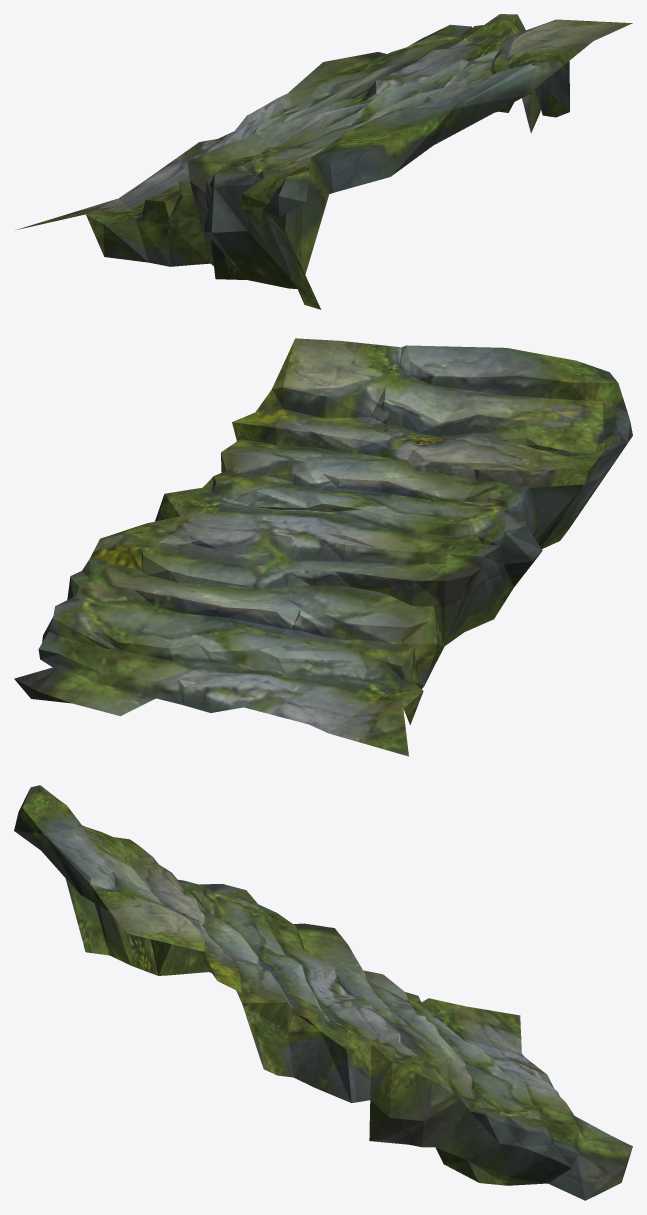
The model's file is bigmap_02_louti_02.FBX.
3 views of the same model, one above another, from view 1: azimuth 30°, elevation 25°; view 2: azimuth 150°, elevation 25°; view 3: azimuth 270°, elevation 25° (orthographic). The views are drawn at different scales.
Parts seen in each view (by area): view 1: louti02; view 2: louti02; view 3: louti02.
Part boxes in pixels (box(x1,y1,x2,y2)): louti02: box(15, 14, 632, 309); louti02: box(14, 338, 632, 756); louti02: box(14, 785, 632, 1200).
Bounding box in the file's own units: 18.35 × 10.36 × 23.45.
